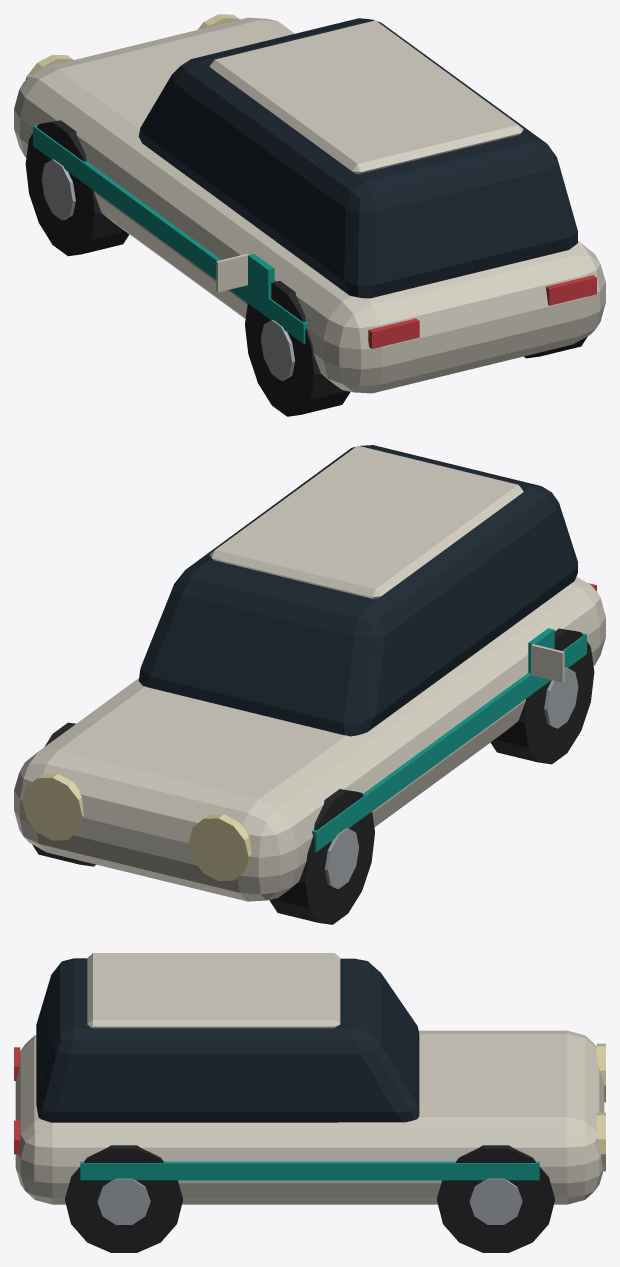
File: hatchback.glb
The picture shows the model from 3 angles, top to bottom: view 1: azimuth 30°, elevation 25°; view 2: azimuth 150°, elevation 25°; view 3: azimuth 270°, elevation 25°; orthographic projection. The views are drawn at different scales.
Parts seen in each view (by area): view 1: hatchback; view 2: hatchback; view 3: hatchback.
Boxes of the visible parts, x1,y1,x2,y2 form: hatchback: (14, 14, 605, 416); hatchback: (14, 445, 605, 924); hatchback: (14, 953, 605, 1252).
Size of the model in its own units: 2 by 1.49 by 3.82.
